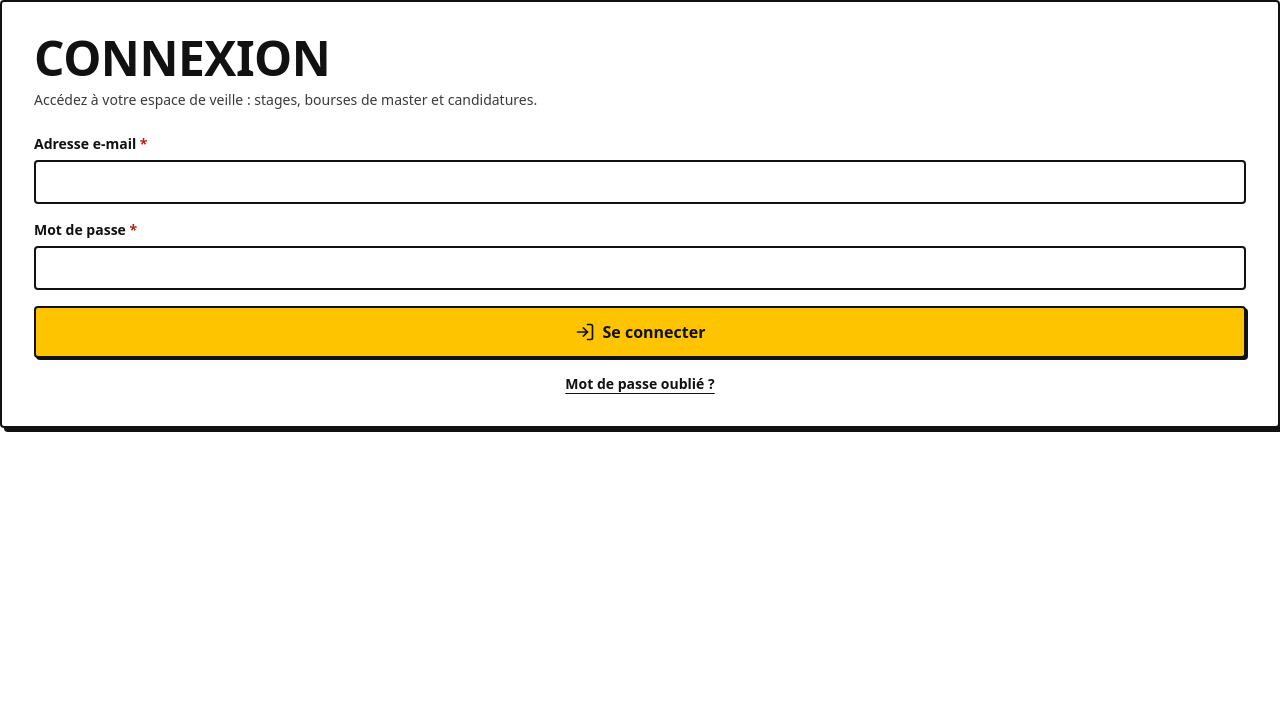
Test: connexion et confirmation d'adresse › propose un nouvel envoi du lien si l'adresse n'est pas confirmée
Type "awa@example.com" into the field labelled "Adresse e-mail *" at (640, 182), box [34,160,1246,204]
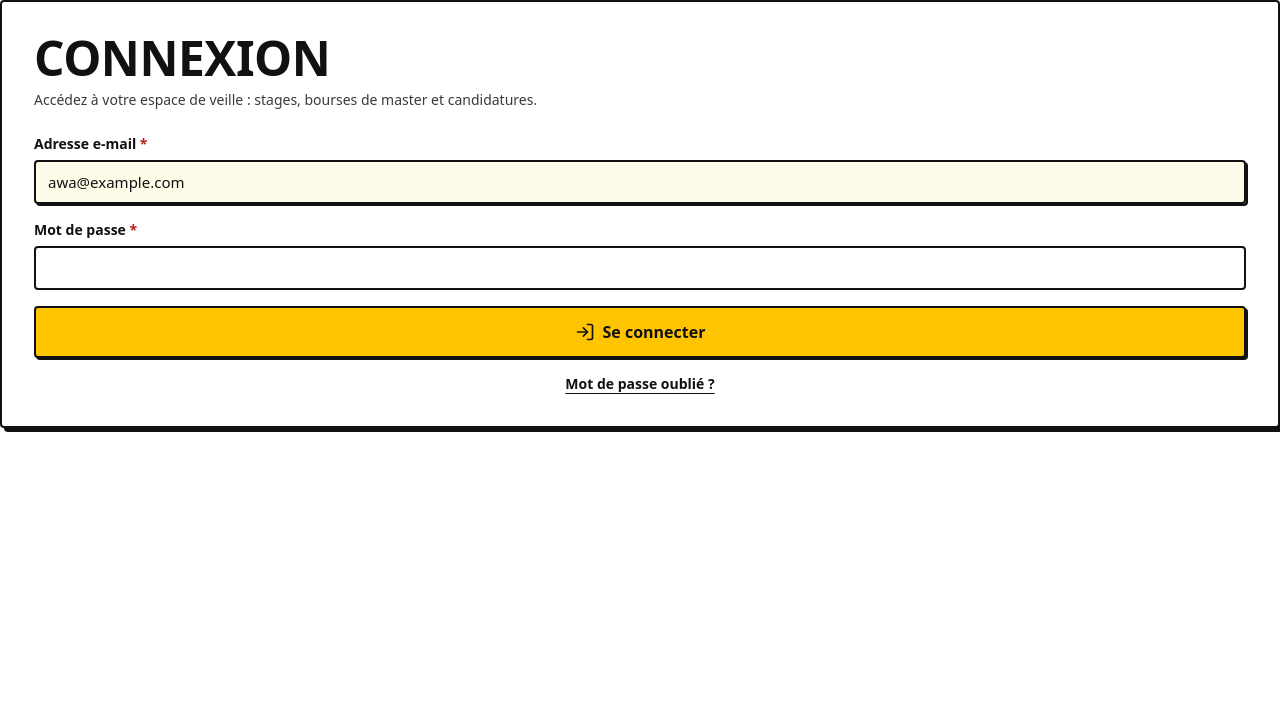
Type "Mot-de-passe-solide-2026" into the password field labelled "Mot de passe *" at (640, 268), box [34,246,1246,290]
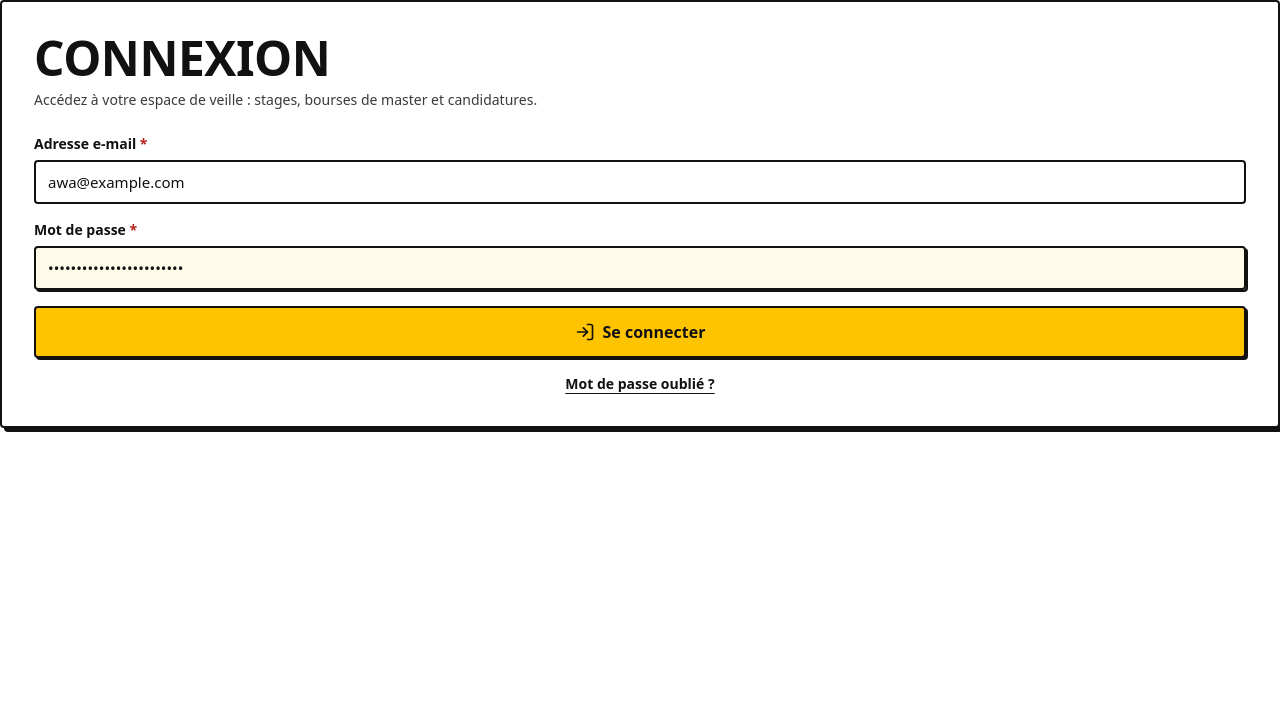
Click the button "Se connecter" at (640, 332), box [34,306,1246,358]
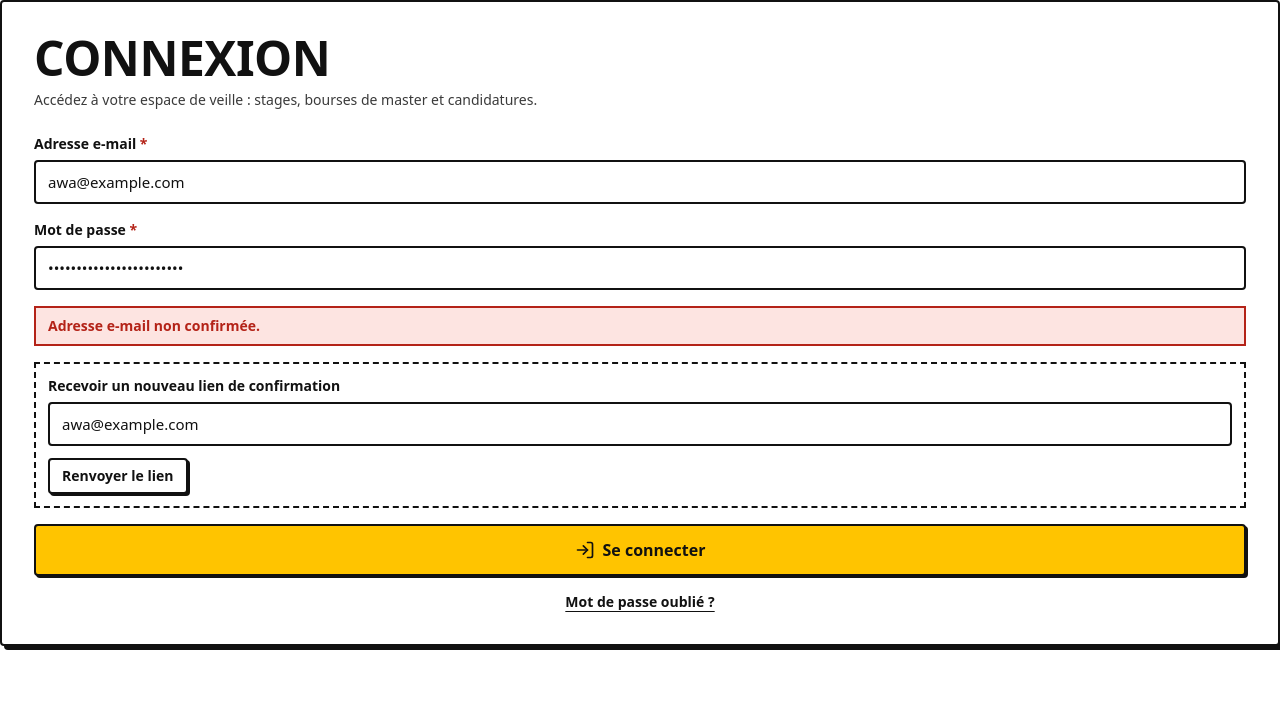
Check: the text "Adresse e-mail non confirmée." is shown, box [34,306,1246,346]
Check: the field labelled "Recevoir un nouveau lien de confirmation" holds "awa@example.com", box [48,402,1232,446]
Click the button "Renvoyer le lien" at (118, 476), box [48,458,188,494]
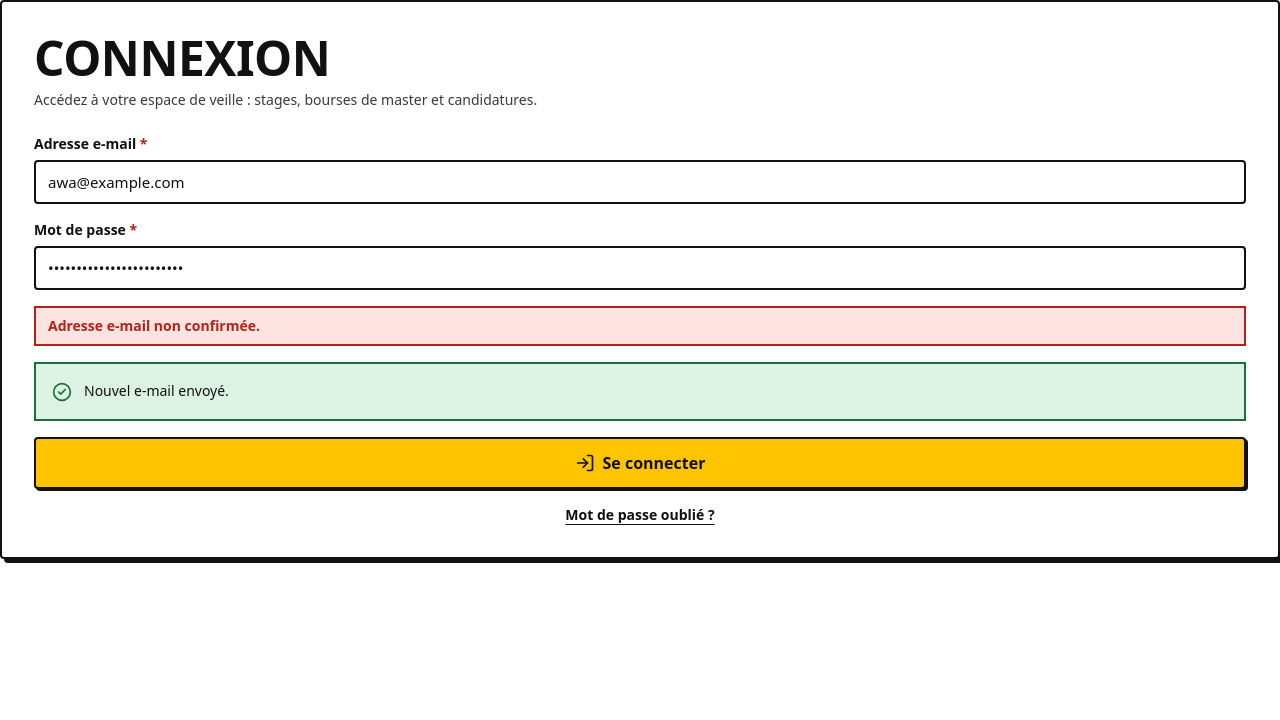
Check: the text "Nouvel e-mail envoyé." is shown, box [84,381,229,400]
